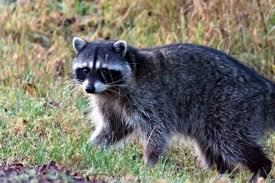raccoon: (73, 37, 273, 174)
